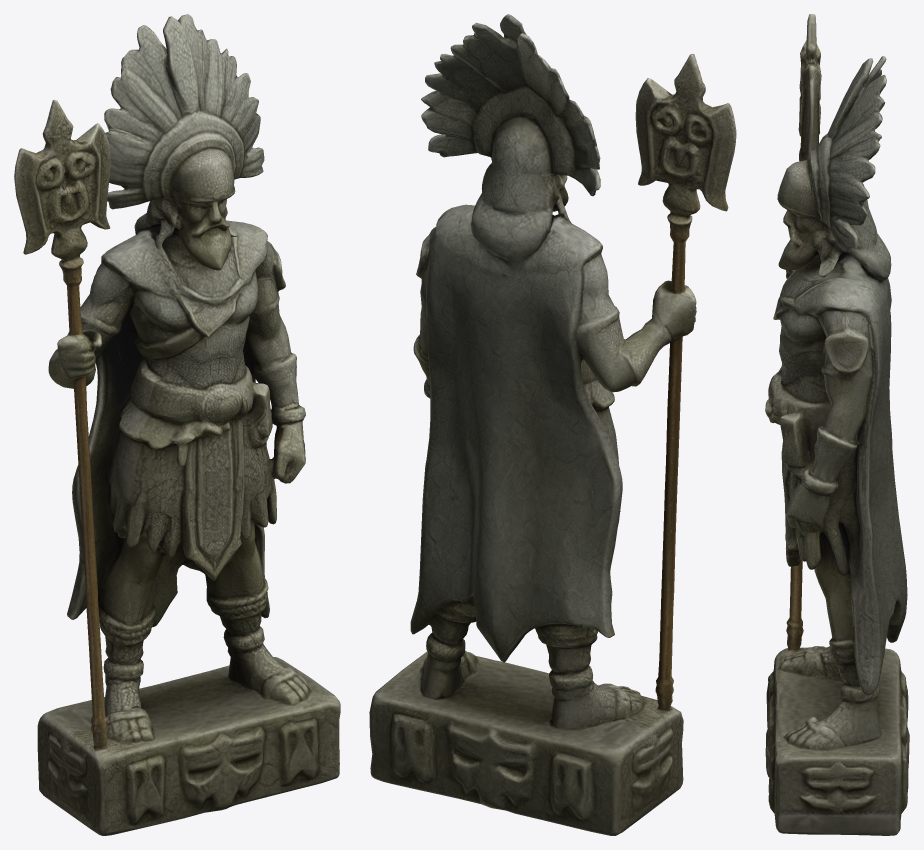
Rendered from guardian.glb.
3 views of the same model, side by side, from view 1: azimuth 30°, elevation 25°; view 2: azimuth 150°, elevation 25°; view 3: azimuth 270°, elevation 25° (orthographic). The views are drawn at different scales.
Size of the model in its own units: 0.8213 by 1.89 by 0.3425.
1 material, 1 textured.
